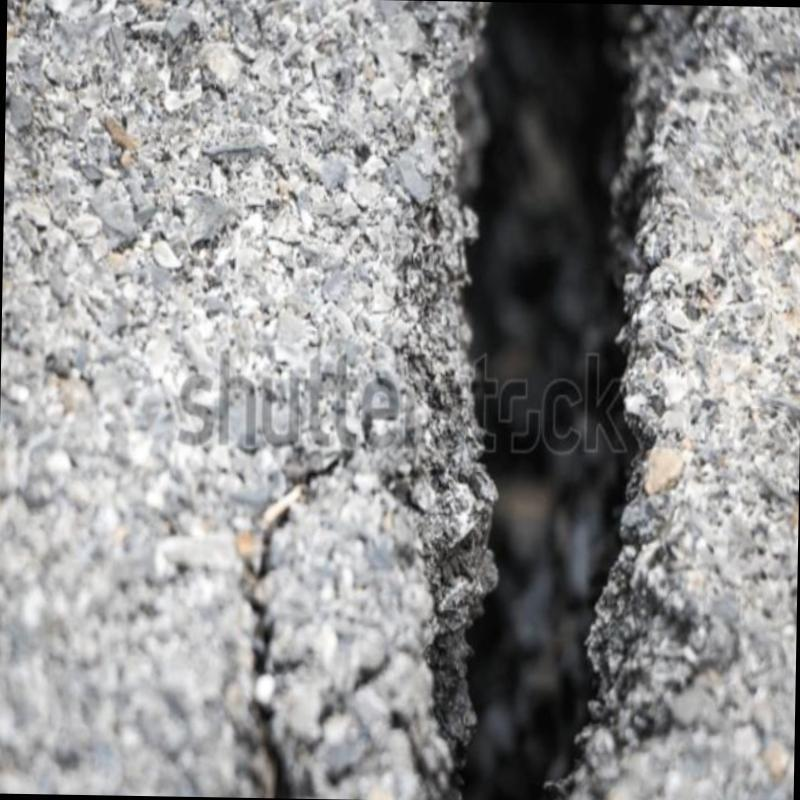pothole: (454, 2, 628, 800)
